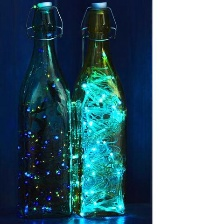bottle: (70, 1, 132, 220), (14, 0, 73, 220)
